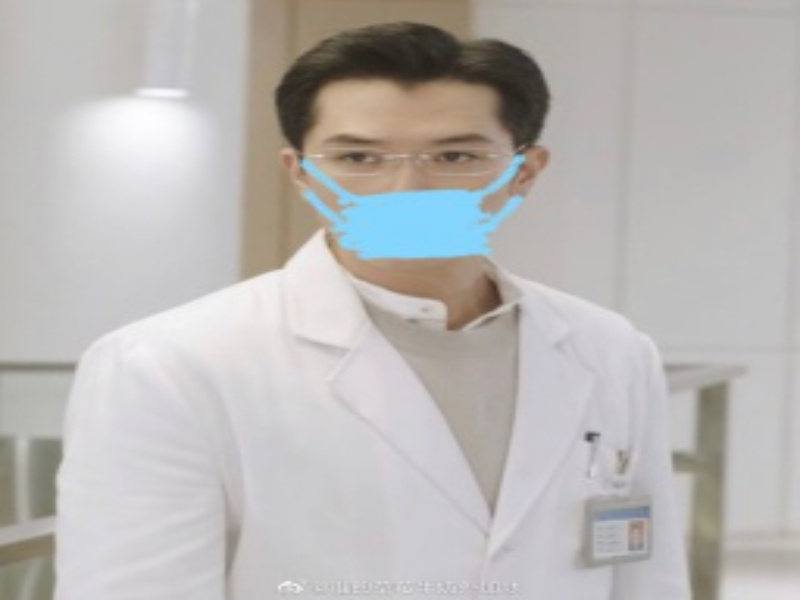ManaoArotava: (261, 29, 573, 274)
